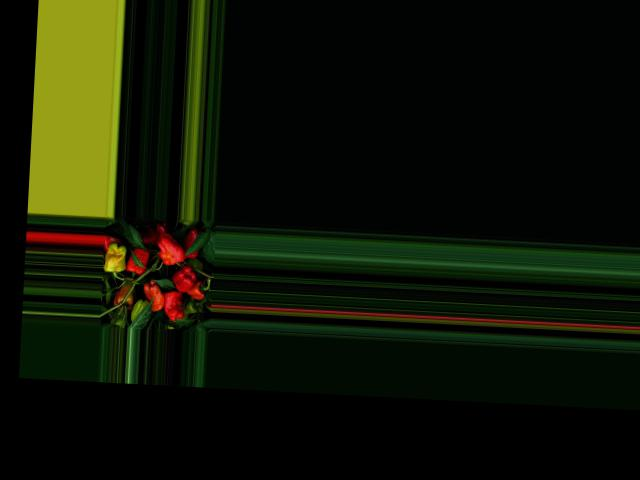bell_pepper: (187, 285, 207, 300)
